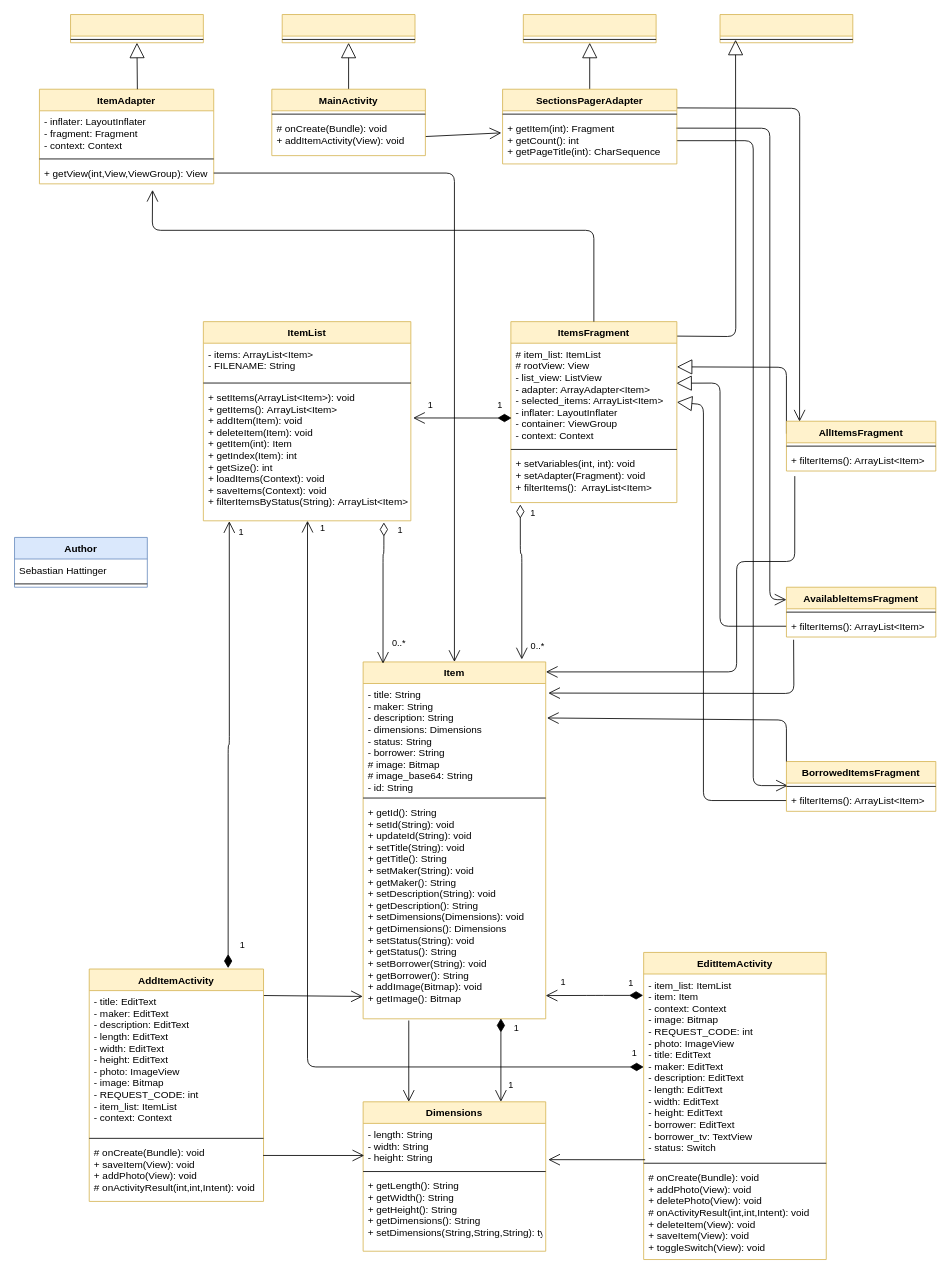
The diagram is 950 pixels wide and 1277 high, and some of its shapes have lost their labels. The centre of each missing label's shape, as x and y in pixels:
AppCompatActivity: the point at 348,28
ArrayAdapter: the point at 136,28
Fragment: the point at 786,28
FragmentPagerAdapter: the point at 589,28
